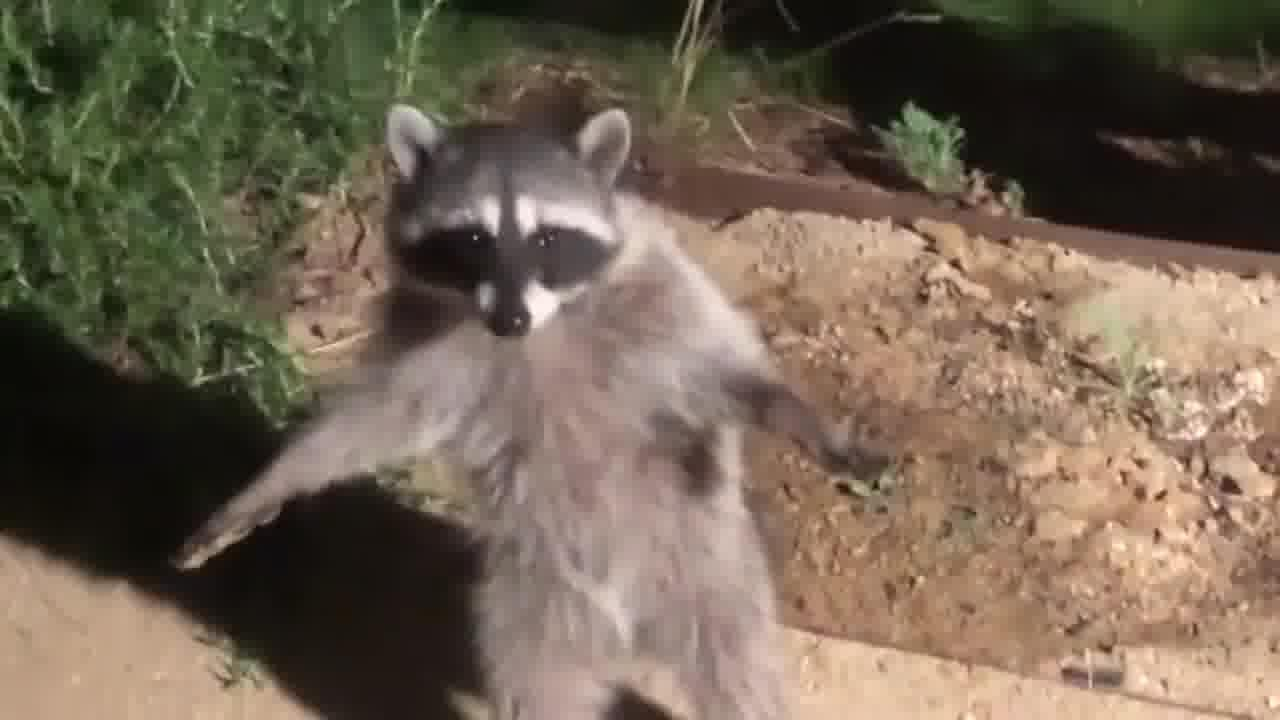raccoon: (167, 91, 918, 720)
